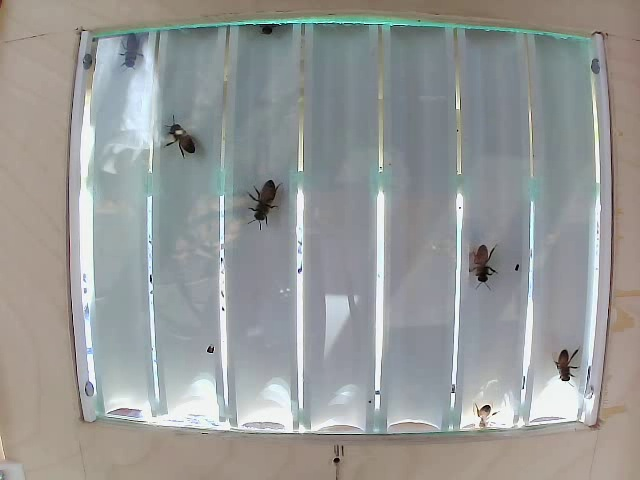bee: (555, 345, 589, 388), (148, 118, 193, 150), (121, 30, 159, 67), (250, 178, 282, 221), (469, 241, 500, 280)
